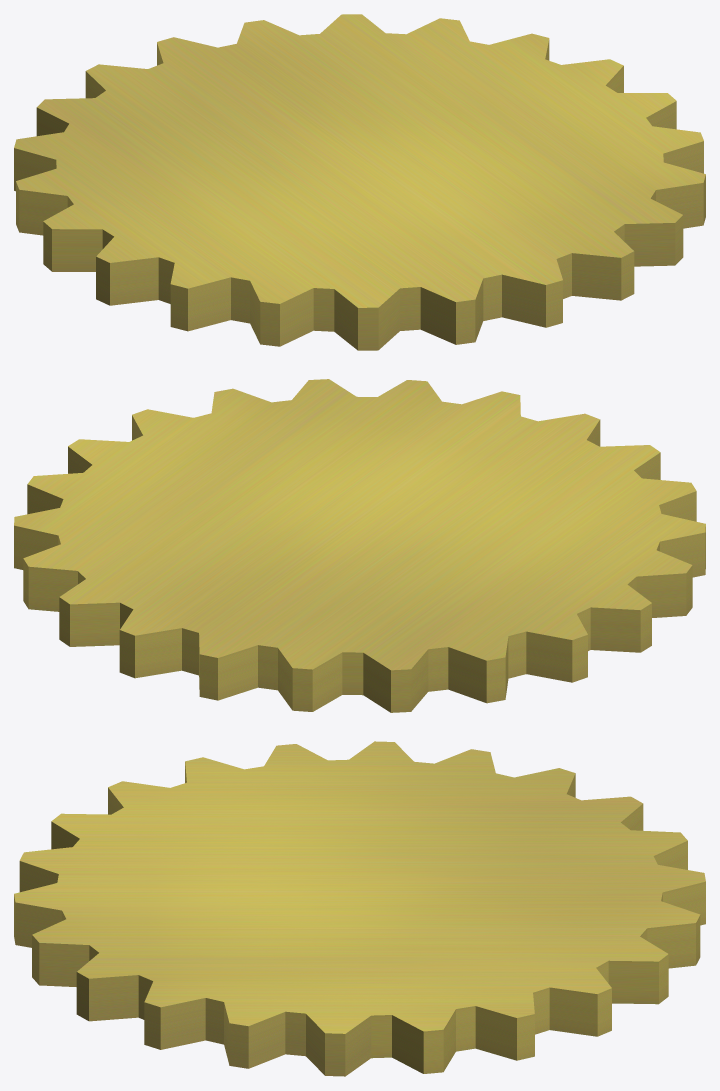
Rendered from Cog022.fbx.
3 renders of one model, top to bottom at view 1: azimuth 30°, elevation 25°; view 2: azimuth 150°, elevation 25°; view 3: azimuth 270°, elevation 25°, orthographic.
Parts seen in each view (by area): view 1: Cog022; view 2: Cog022; view 3: Cog022.
Boxes of the visible parts, x1,y1,x2,y2 form: Cog022: (14,14,705,350); Cog022: (14,379,705,712); Cog022: (14,741,705,1076).
Bounding box in the file's own units: 215 × 14.59 × 215.
